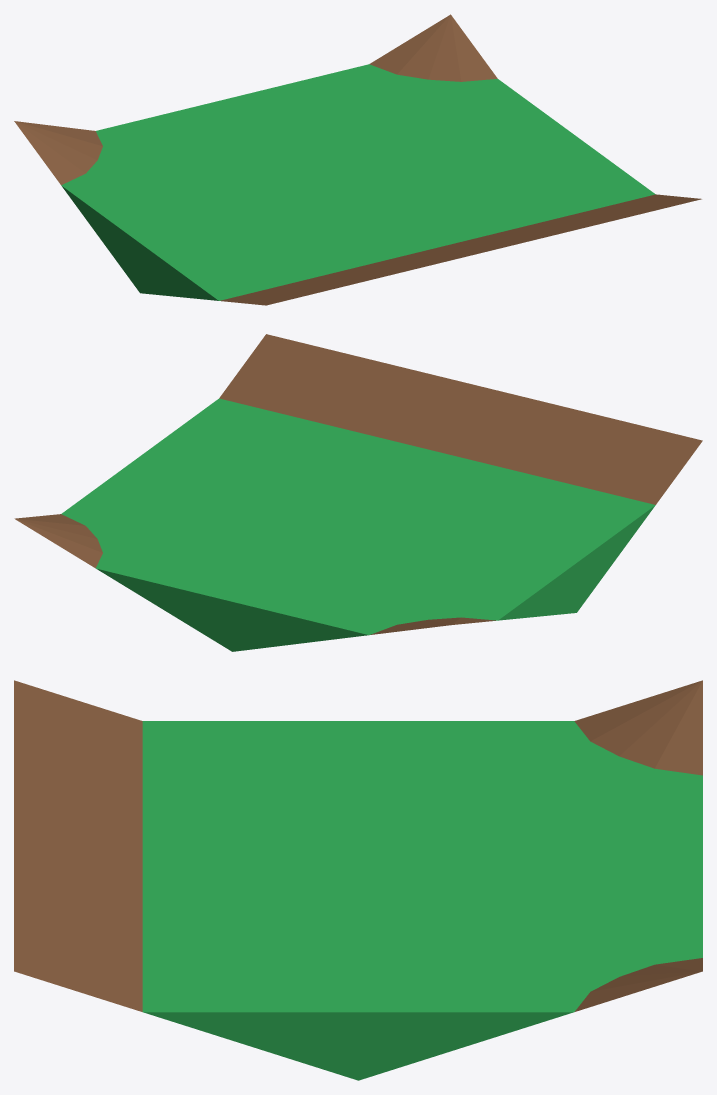
Rendered from SPW_Terrain_River_Intersection.gltf.
3 views of the same model, one above another, from view 1: azimuth 30°, elevation 25°; view 2: azimuth 150°, elevation 25°; view 3: azimuth 270°, elevation 25° (orthographic). The views are drawn at different scales.
Parts seen in each view (by area): view 1: SPW_Terrain_River_Intersection; view 2: SPW_Terrain_River_Intersection; view 3: SPW_Terrain_River_Intersection.
Part boxes in pixels (x1,y1,x2,y2): SPW_Terrain_River_Intersection: [14, 14, 701, 305]; SPW_Terrain_River_Intersection: [14, 334, 702, 651]; SPW_Terrain_River_Intersection: [14, 680, 702, 1080].
Size of the model in its own units: 1575 by 276 by 1575.
Materials: 1 (1 with a texture image).
